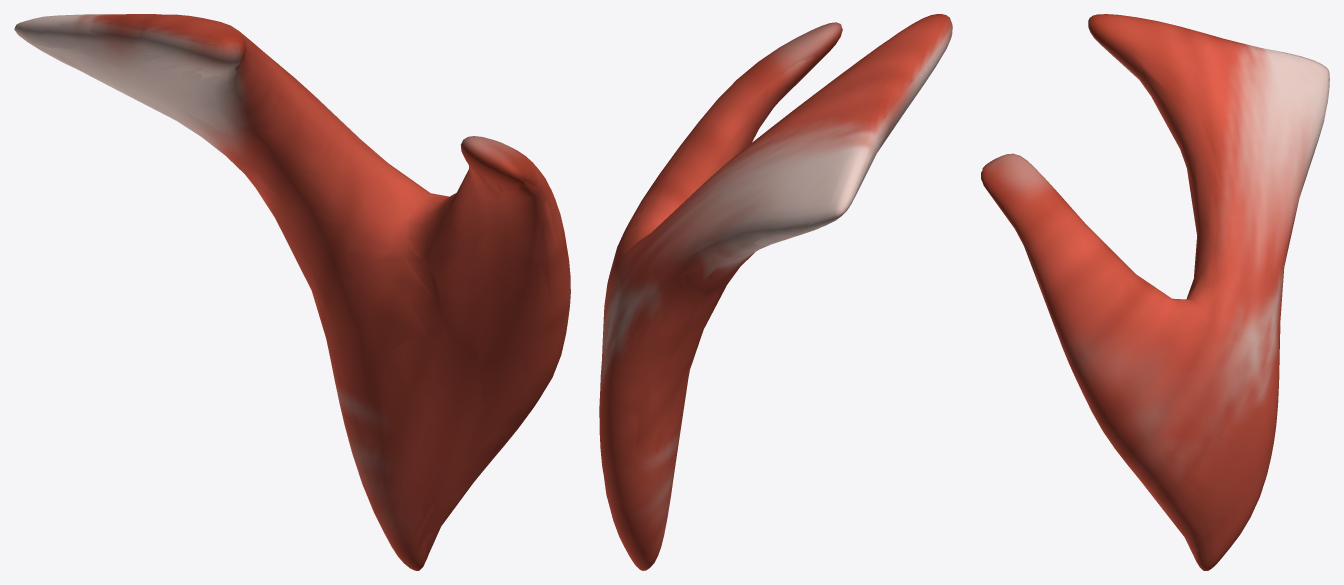
File: L Gluteus Superficialis.fbx
3 views of the same model, side by side, from view 1: azimuth 30°, elevation 25°; view 2: azimuth 150°, elevation 25°; view 3: azimuth 270°, elevation 25° (orthographic). The views are drawn at different scales.
Parts seen in each view (by area): view 1: L Gluteus Superficialis low, L Gluteus Superficialis; view 2: L Gluteus Superficialis, L Gluteus Superficialis low; view 3: L Gluteus Superficialis, L Gluteus Superficialis low.
Boxes of the visible parts, x1,y1,x2,y2 form: L Gluteus Superficialis low: (14,14,570,570); L Gluteus Superficialis: (14,14,570,570); L Gluteus Superficialis: (599,14,952,570); L Gluteus Superficialis low: (601,20,949,546); L Gluteus Superficialis: (981,14,1329,570); L Gluteus Superficialis low: (983,18,1322,560).
Size of the model in its own units: 9.32 by 14.55 by 9.95.
